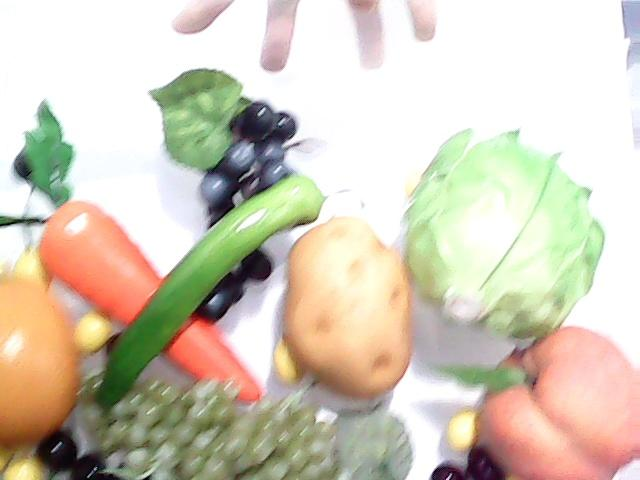cabbage: (400, 124, 606, 336)
carrot: (0, 98, 262, 406)
grape: (148, 61, 296, 323), (95, 388, 345, 480)
lemon: (0, 252, 94, 450)
peach: (472, 324, 640, 480)
pepper: (86, 162, 334, 418)
potato: (283, 217, 412, 403)
